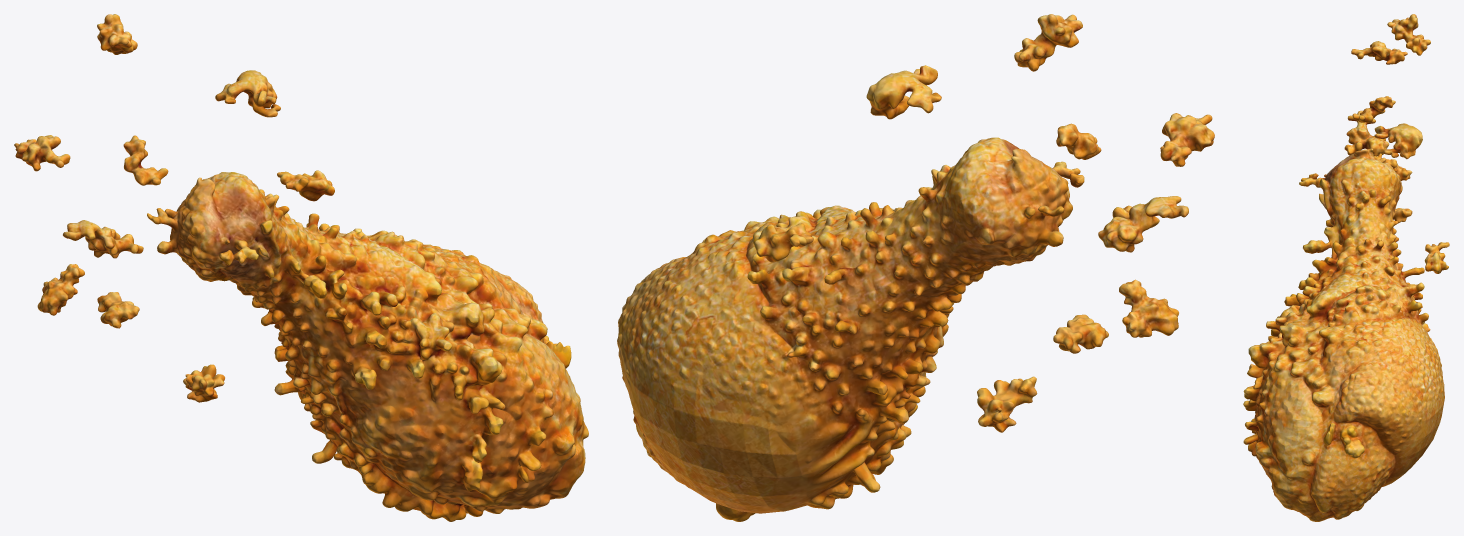
The model's file is 3d-fried-chicken.glb.
3 views of the same model, side by side, from view 1: azimuth 30°, elevation 25°; view 2: azimuth 150°, elevation 25°; view 3: azimuth 270°, elevation 25° (orthographic). The views are drawn at different scales.
Parts seen in each view (by area): view 1: tripo_node_8d9f7f33-a264-41f5-afb4-9af0f0ffaa0d; view 2: tripo_node_8d9f7f33-a264-41f5-afb4-9af0f0ffaa0d; view 3: tripo_node_8d9f7f33-a264-41f5-afb4-9af0f0ffaa0d.
Boxes of the visible parts, x1,y1,x2,y2 form: tripo_node_8d9f7f33-a264-41f5-afb4-9af0f0ffaa0d: [14, 14, 588, 521]; tripo_node_8d9f7f33-a264-41f5-afb4-9af0f0ffaa0d: [617, 14, 1214, 521]; tripo_node_8d9f7f33-a264-41f5-afb4-9af0f0ffaa0d: [1243, 14, 1449, 521].
Bounding box in the file's own units: 1 × 0.9829 × 0.4747.
Materials: 1 (1 with a texture image).
